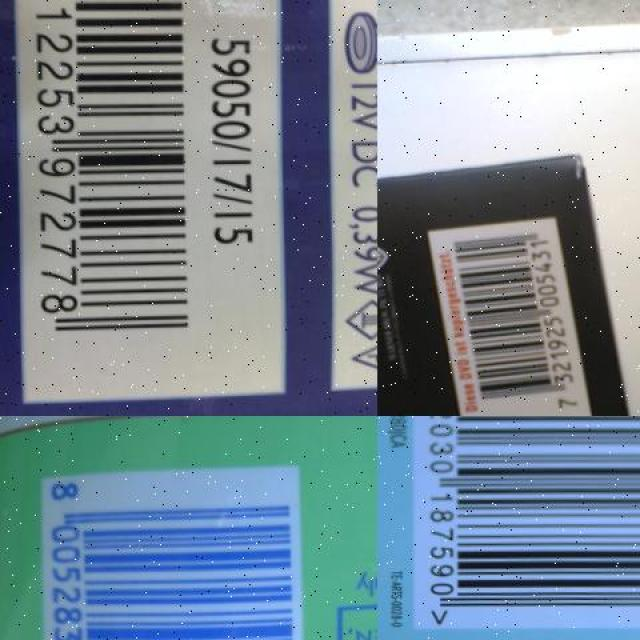Barcode: (15, 0, 206, 355), (406, 416, 640, 634), (37, 466, 302, 640), (424, 217, 591, 416)
